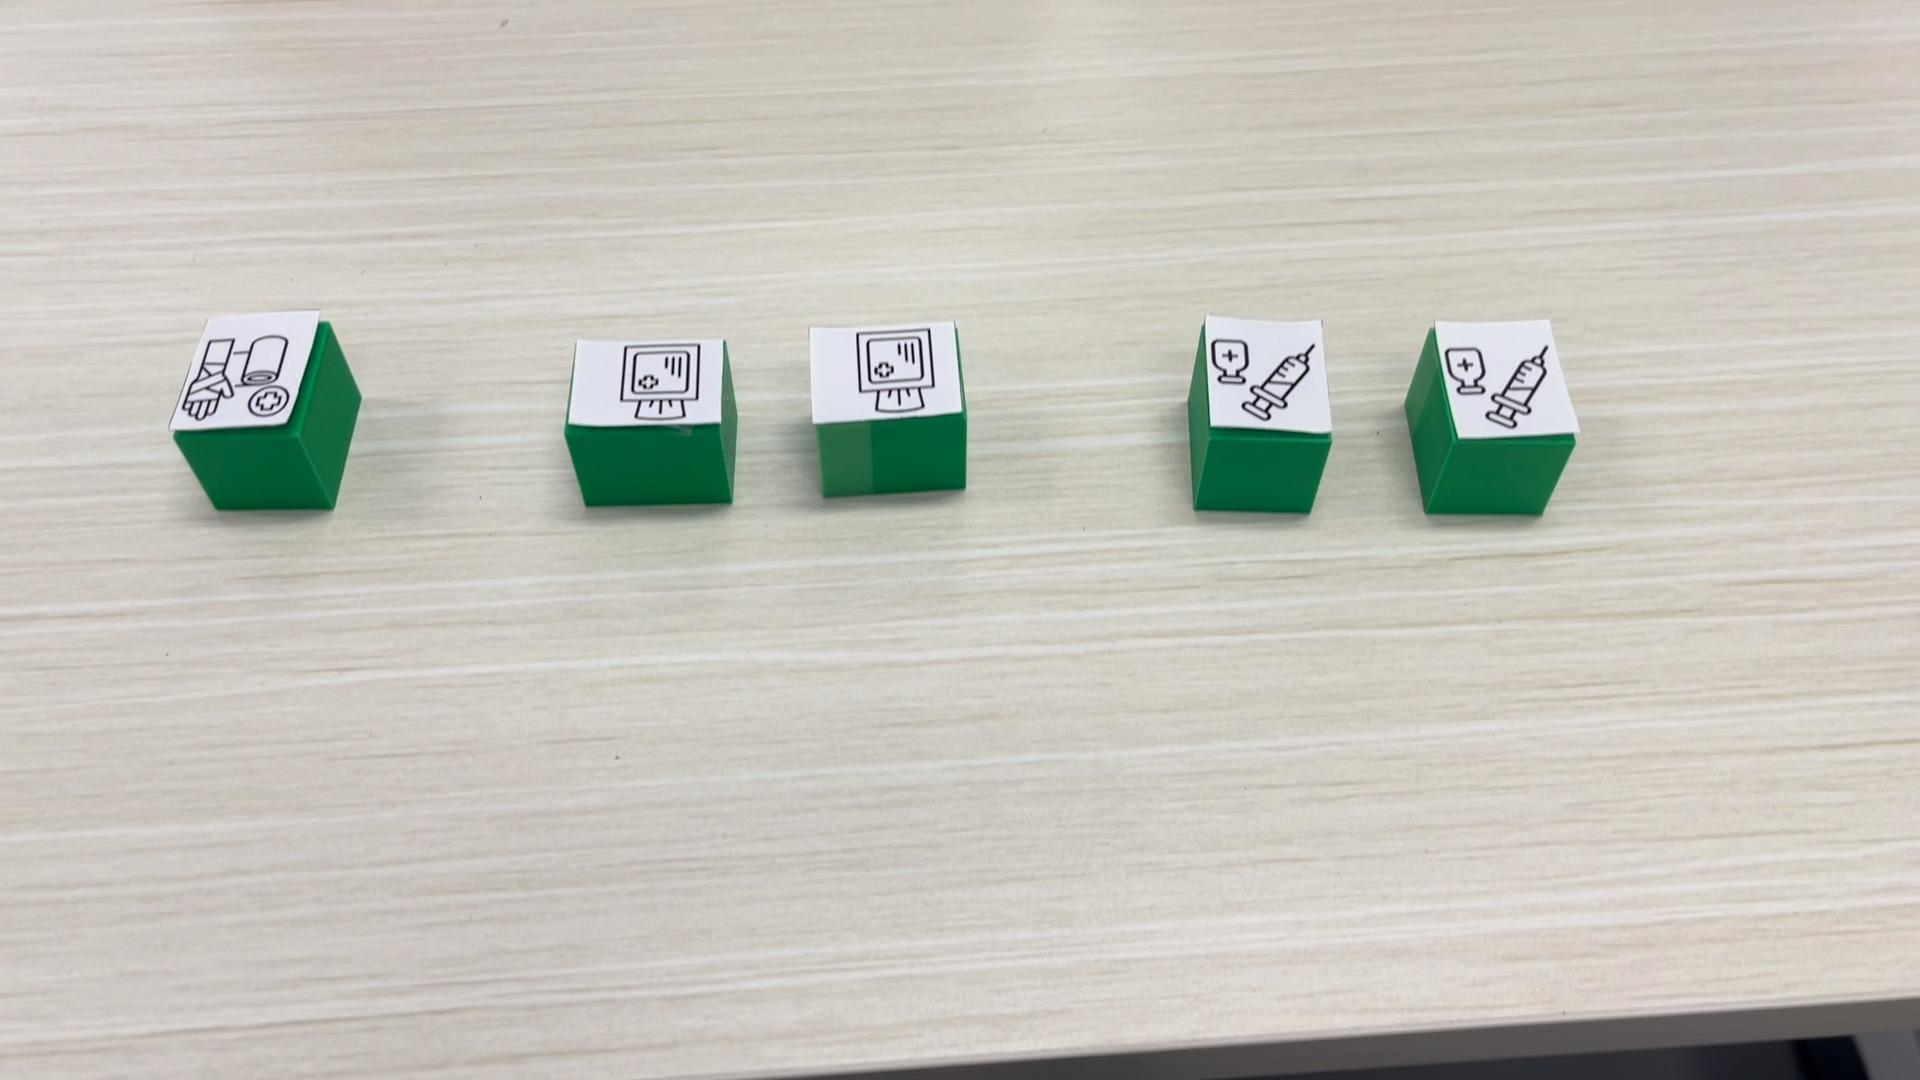Bandages: (170, 309, 360, 512)
Gauze: (806, 318, 971, 498), (564, 336, 738, 506)
antiseptic cream: (1402, 316, 1580, 516), (1185, 313, 1335, 514)
